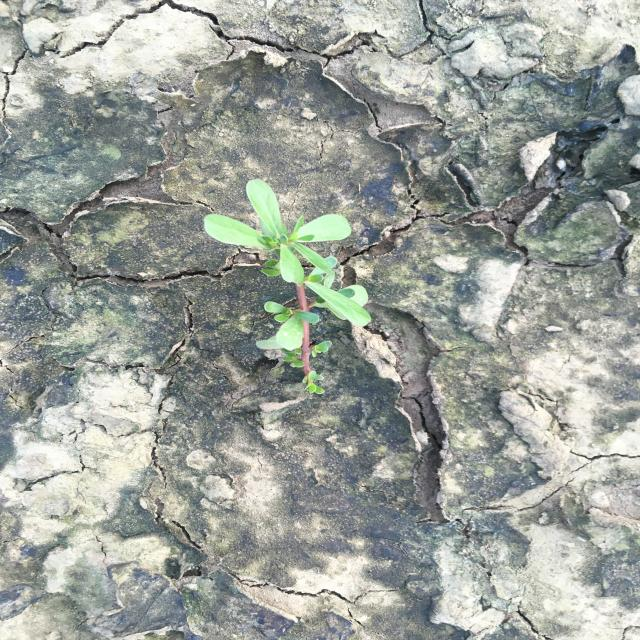Purslane: (202, 178, 373, 396)
